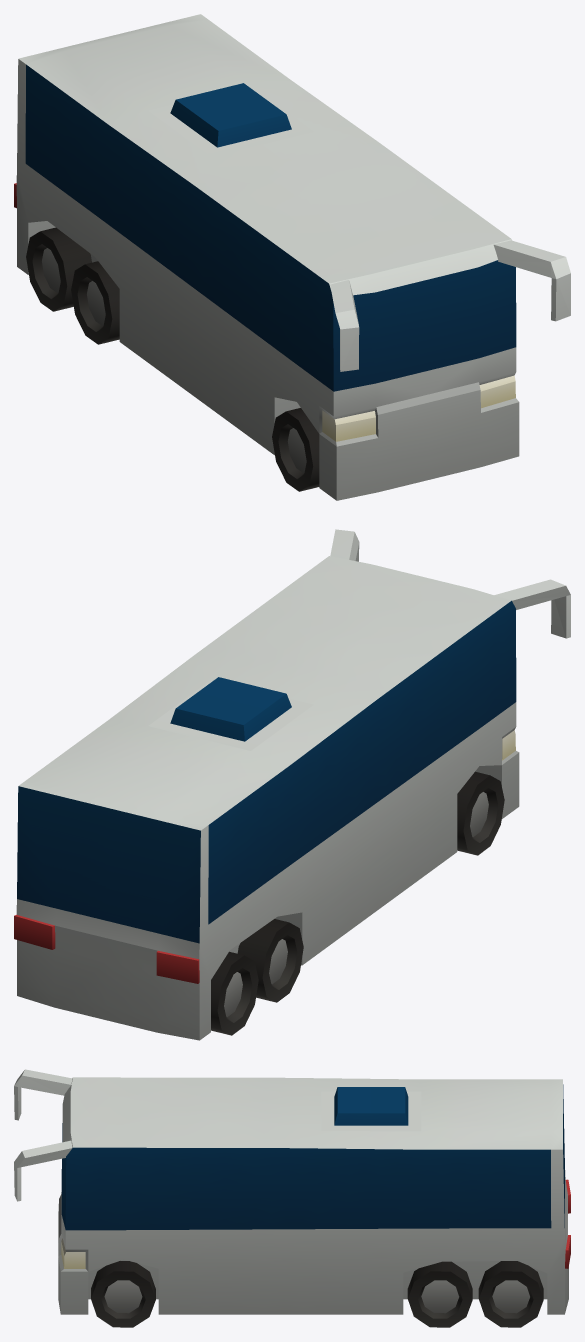
Rendered from Bus.fbx.
3 views of the same model, one above another, from view 1: azimuth 30°, elevation 25°; view 2: azimuth 150°, elevation 25°; view 3: azimuth 270°, elevation 25° (orthographic). The views are drawn at different scales.
Parts seen in each view (by area): view 1: Bus; view 2: Bus; view 3: Bus.
Boxes of the visible parts, bbox=[...] form: Bus: bbox=[14, 14, 570, 500]; Bus: bbox=[14, 529, 570, 1040]; Bus: bbox=[14, 1069, 570, 1327].
Bounding box in the file's own units: 271 × 271 × 718.
